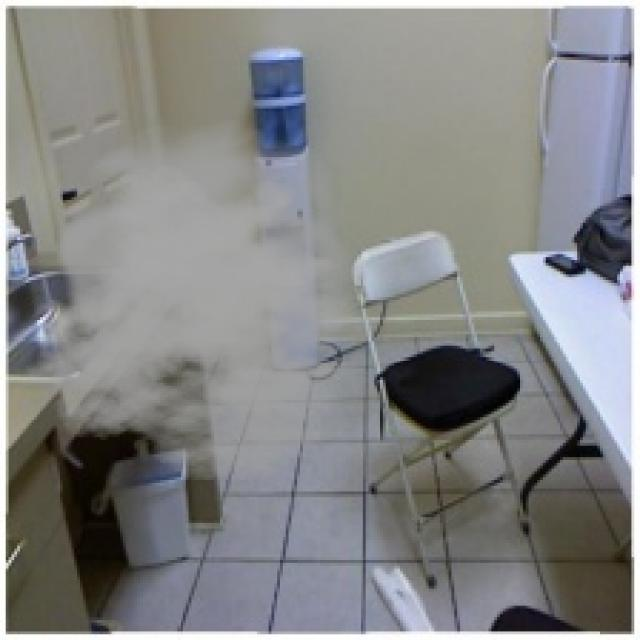smoke: (23, 120, 400, 483)
